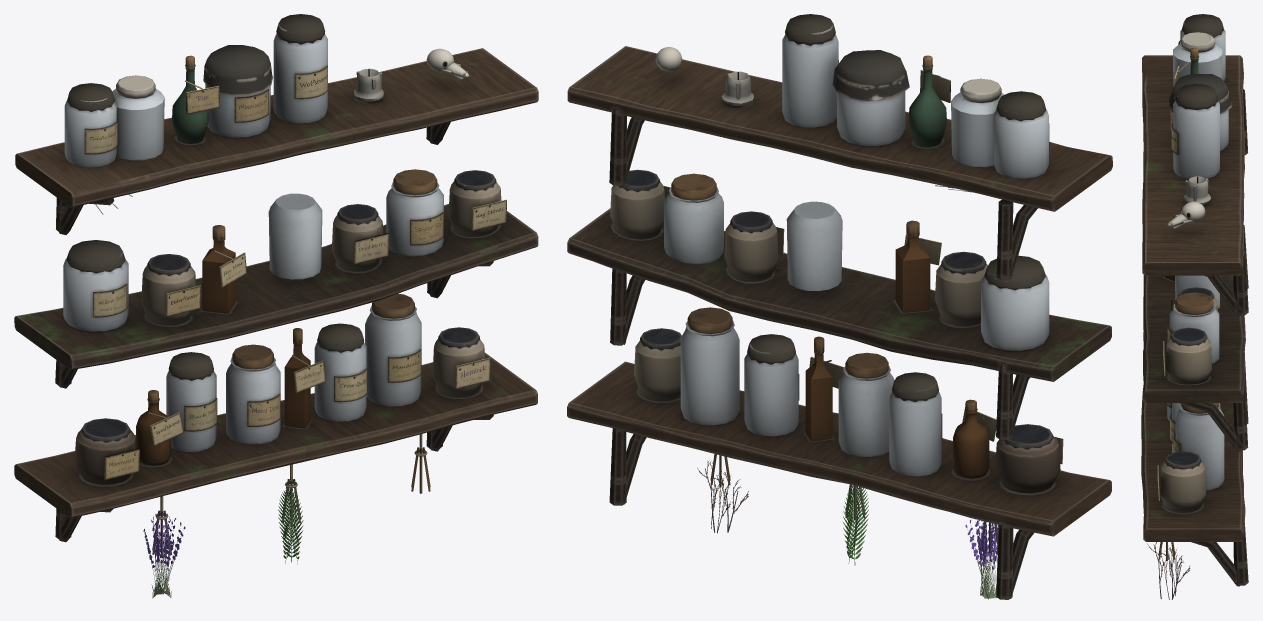
Rendered from WitchJarShelf.fbx.
3 renders of one model, left to right at view 1: azimuth 30°, elevation 25°; view 2: azimuth 150°, elevation 25°; view 3: azimuth 270°, elevation 25°, orthographic. The views are drawn at different scales.
Parts seen in each view (by area): view 1: WitchJarShelf_Main, WitchJarShelf_Glass, WitchJarShelf_Leaves; view 2: WitchJarShelf_Main, WitchJarShelf_Glass, WitchJarShelf_Leaves; view 3: WitchJarShelf_Main, WitchJarShelf_Glass, WitchJarShelf_Leaves.
Boxes of the visible parts, <box> form: WitchJarShelf_Main: <box>14,14,538,556</box>; WitchJarShelf_Glass: <box>63,29,443,451</box>; WitchJarShelf_Leaves: <box>143,487,303,598</box>; WitchJarShelf_Main: <box>567,14,1112,599</box>; WitchJarShelf_Glass: <box>664,29,1049,476</box>; WitchJarShelf_Leaves: <box>697,455,998,599</box>; WitchJarShelf_Main: <box>1141,14,1248,586</box>; WitchJarShelf_Glass: <box>1167,26,1228,490</box>; WitchJarShelf_Leaves: <box>1147,542,1190,599</box>.
Size of the model in its own units: 540 by 582 by 123.
